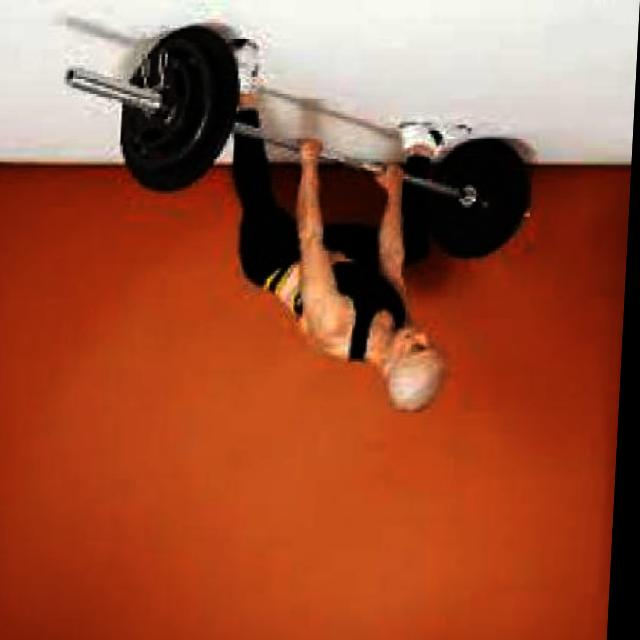barbell: (113, 23, 252, 201)
